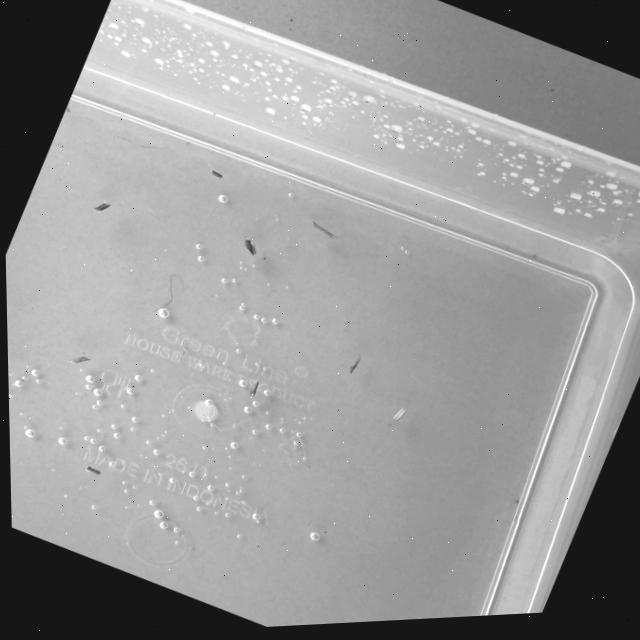Wereng: (80, 187, 125, 225), (302, 213, 347, 250), (237, 367, 274, 407), (340, 344, 373, 382), (62, 345, 99, 378), (384, 400, 420, 433), (76, 456, 114, 485), (235, 229, 267, 262), (200, 160, 230, 188)
